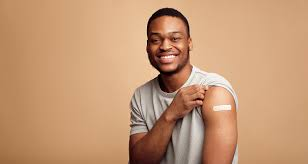person: (145, 7, 194, 78)
